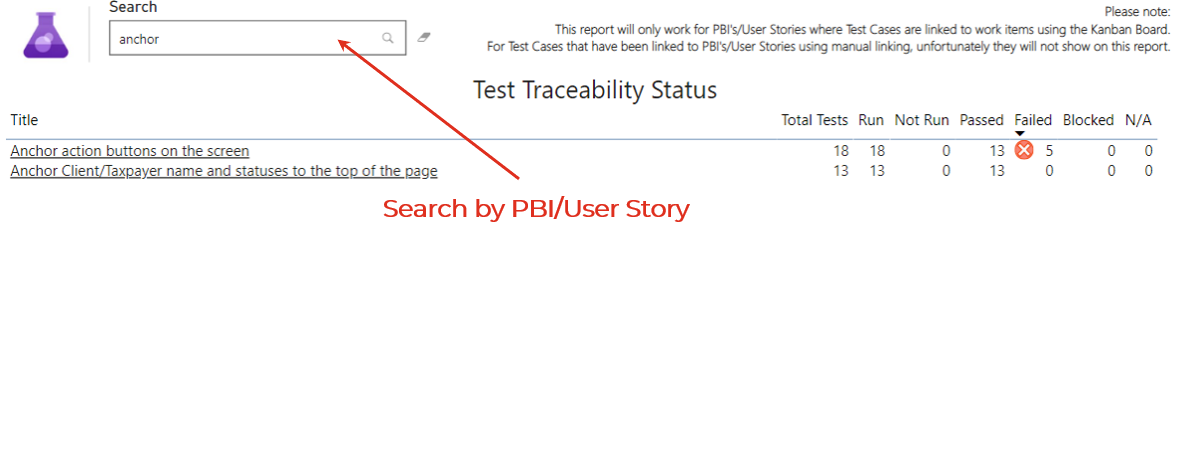

Layout of this report page (visuals, bound fields, positions):
{"tool":"powerbi","page":{"name":"Test Traceability Status","canvas":[1280,720],"ordinal":1},"visuals":[{"type":"image","box":[0,0,96,80],"z":0},{"type":"basicShape","box":[80,0,32,80],"z":1000},{"type":"textbox","box":[496,0,768,80],"z":2000},{"type":"tableEx","title":"Test Traceability Status","fields":{"Values":["Test Coverage.WorkItemTitle","Test Coverage.TotalCount","Test Coverage.RunCount","Test Coverage.NotRunCount","Test Coverage.PassedCount","Test Coverage.FailedCount","Test Coverage.BlockedCount","Test Coverage.NotApplicableCount"]},"box":[0,80,1280,640],"z":3000},{"type":"textFilter25A4896A83E0487089E2B90C9AE57C8A","fields":{"field":["Test Coverage.WorkItemTitle"]},"box":[112,0,368,80],"z":4000}]}

Visuals, with their boxes on the page's 1280x720 design canvas (x1, y1, x2, y2). These are canvas units, not pixel positions in the 1187x462 screenshot, which may show the page scaled, cropped or inside an application window:
image: 0 0 96 80
basicShape: 80 0 112 80
textbox: 496 0 1264 80
"Test Traceability Status" tableEx: 0 80 1280 720
textFilter25A4896A83E0487089E2B90C9AE57C8A - Test Coverage.WorkItemTitle: 112 0 480 80
